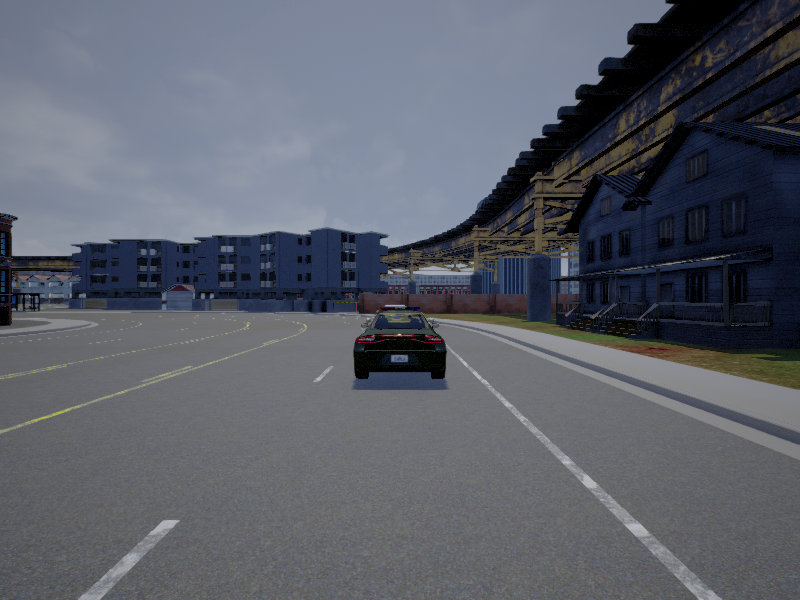benign: (351, 305, 448, 382)
